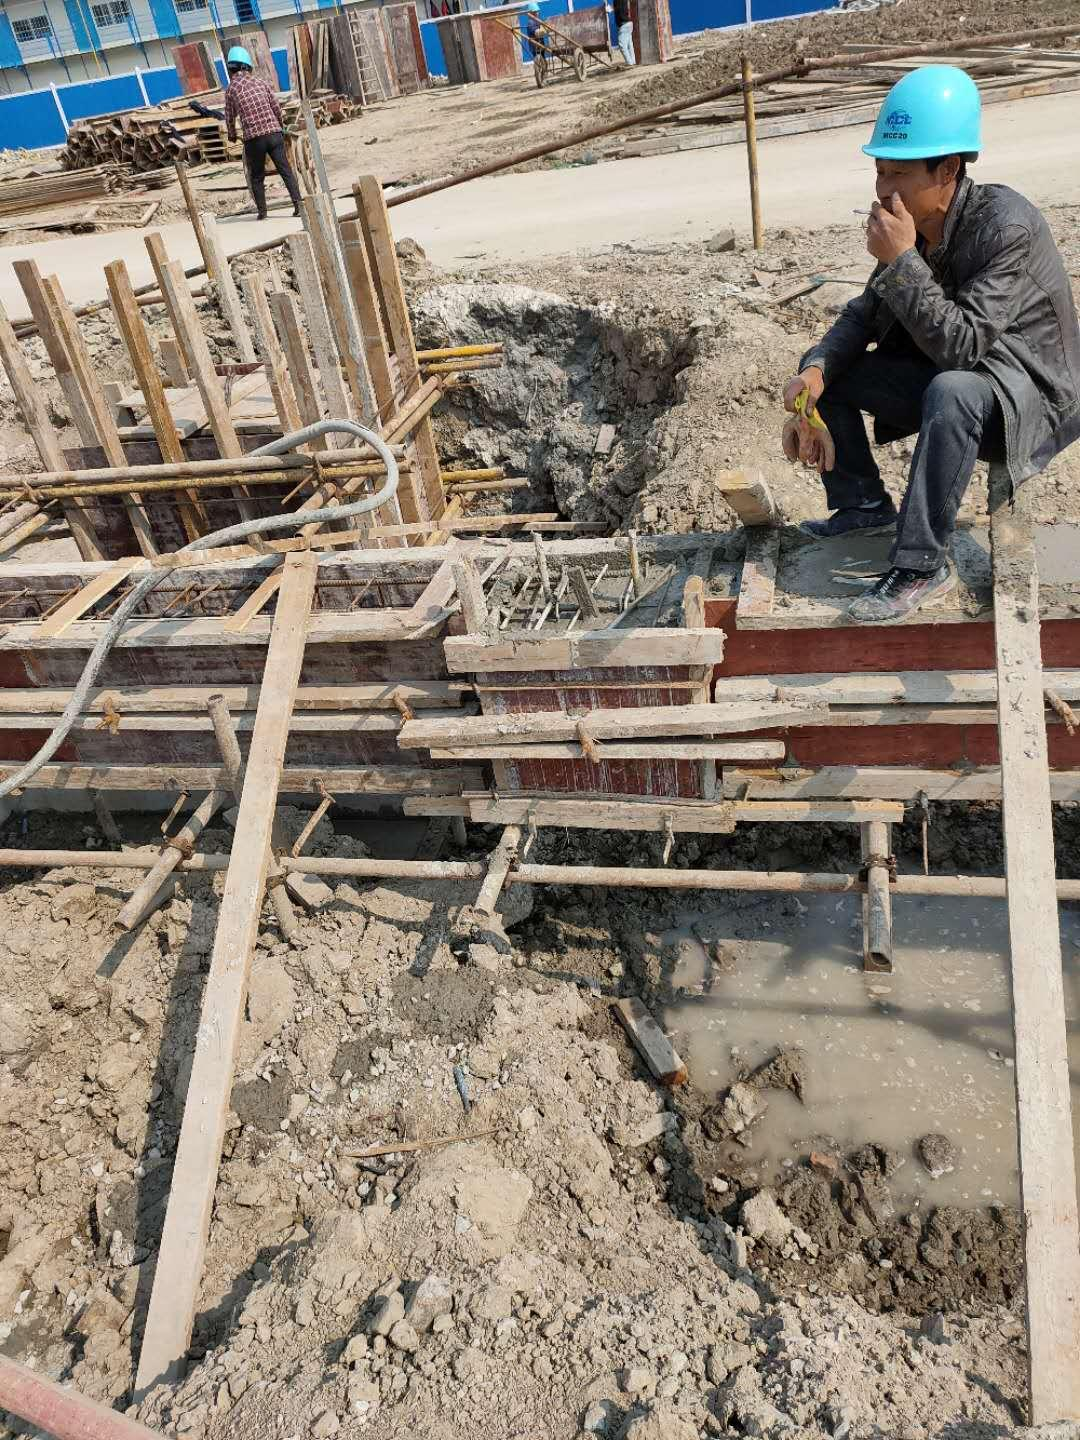Cigarette: (852, 207, 877, 215)
